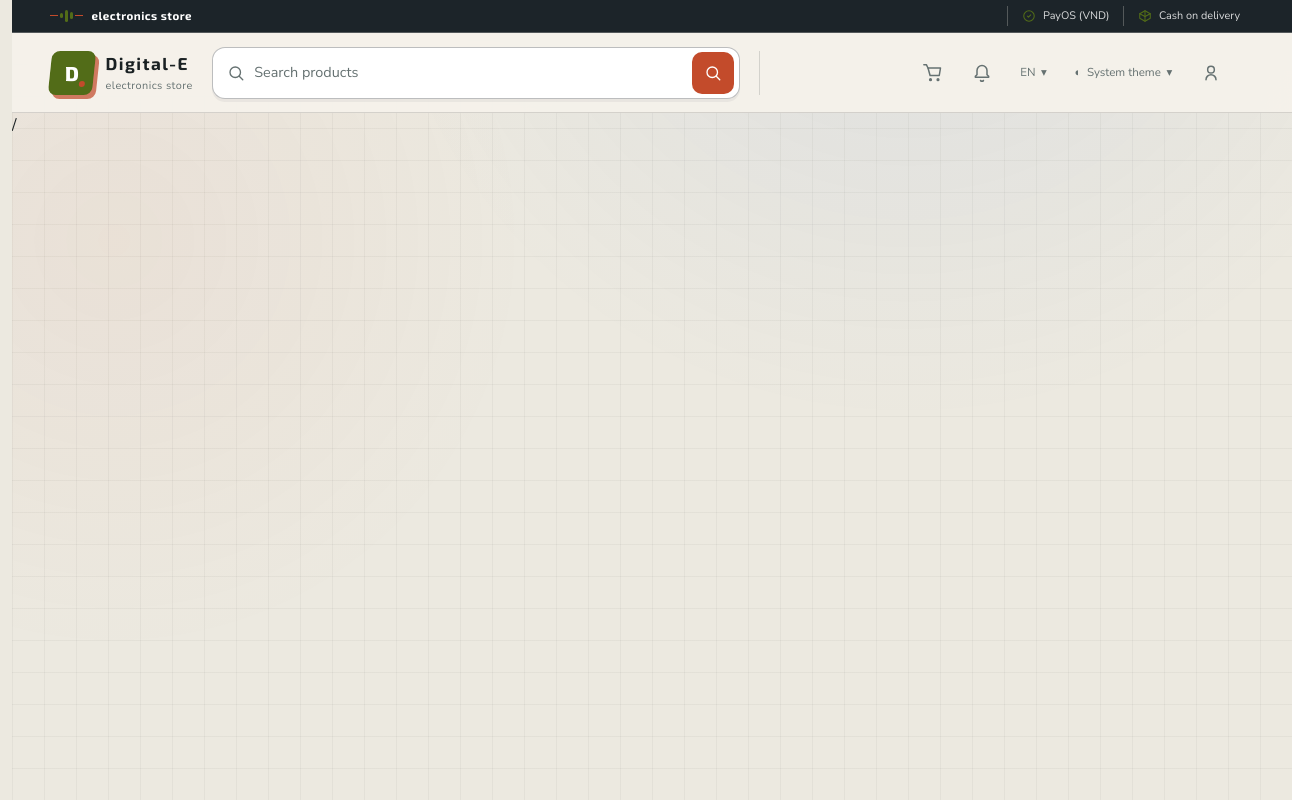
Test case: Header navigation controls › lets a guest open the cart from the profile menu
What coordinates should you click on to do the following:
click the button named "Open profile menu"
I would click on:
 (1211, 73)
Its box is [1188,51,1234,95].
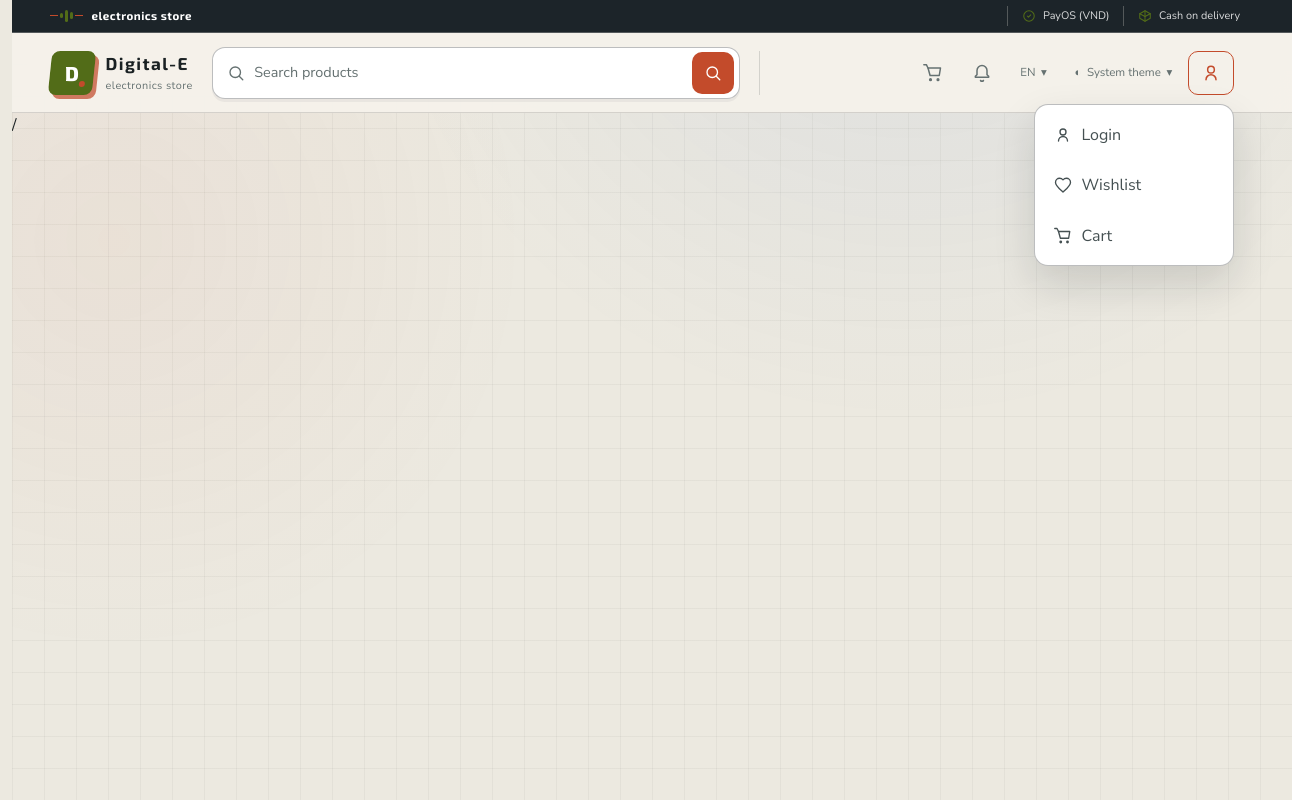
What coordinates should you click on to do the following:
click the button "Cart"
I would click on:
 (1134, 236)
Its box is [1042,212,1227,259].
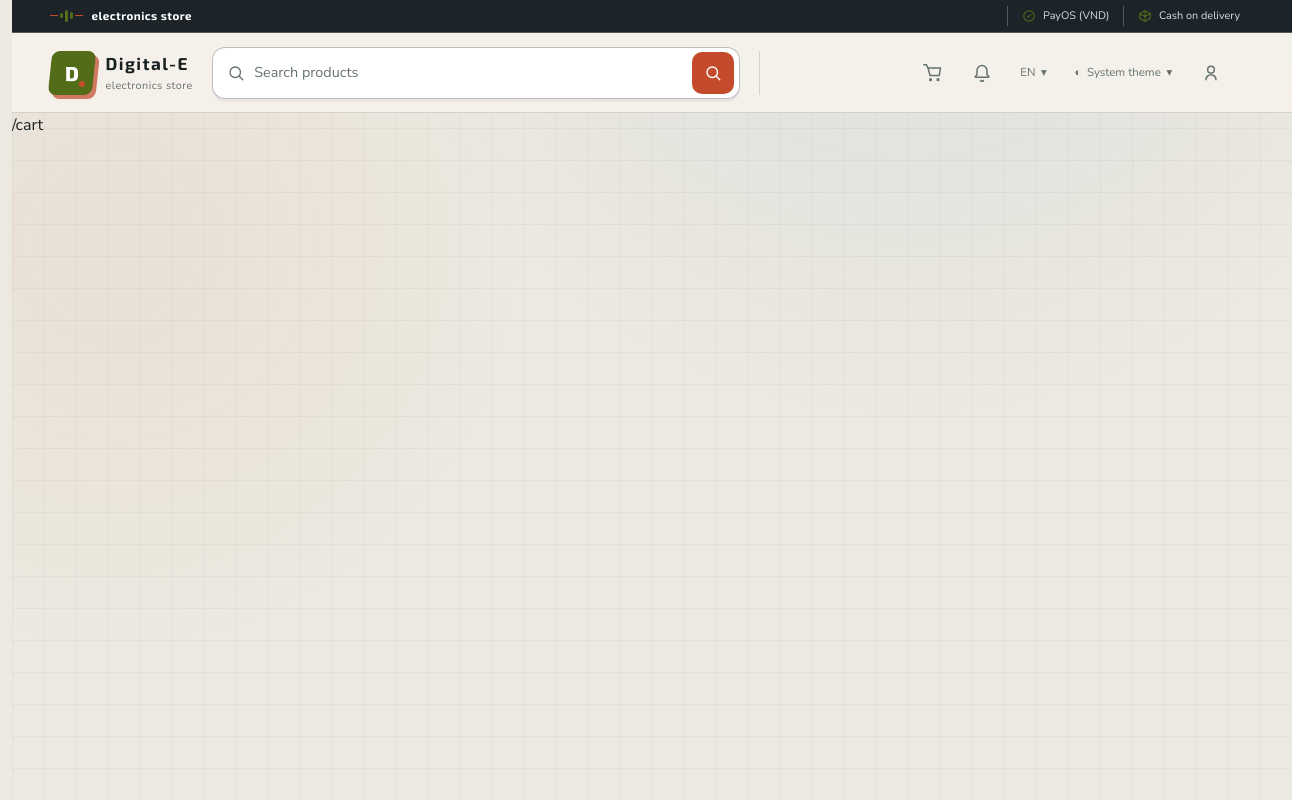
expect the text with test id "location" reads "/cart": met, box [12,114,43,136]
